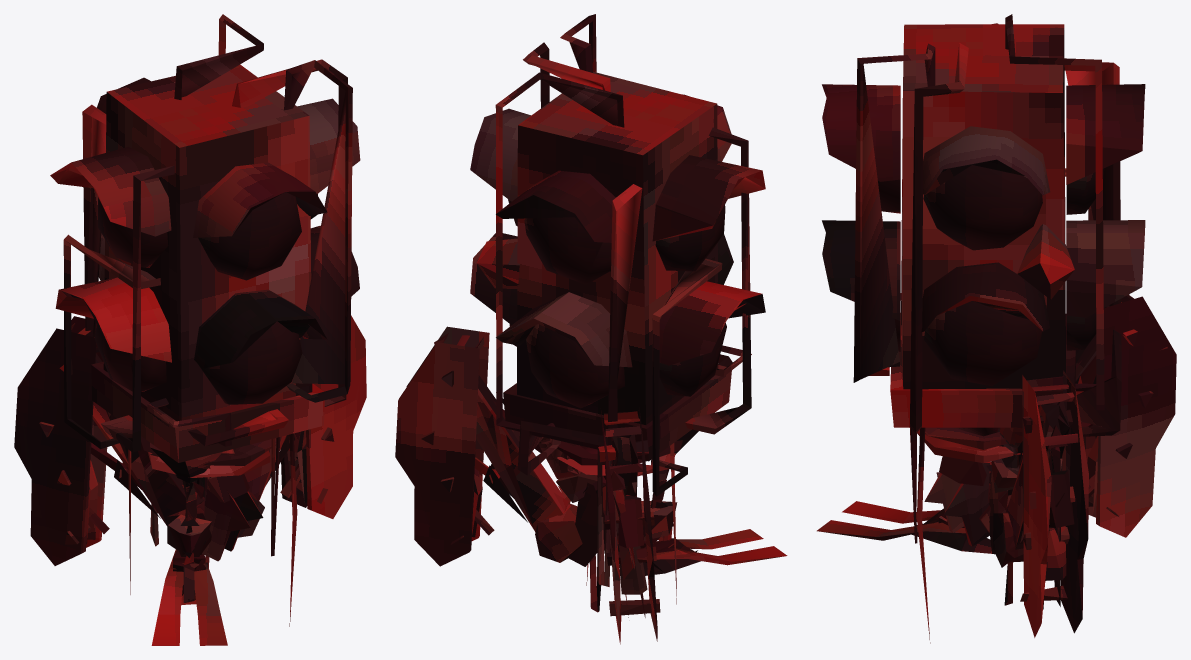
Rendered from item_squishy_redgreen_bloody.glb.
The picture shows the model from 3 angles, left to right: view 1: azimuth 30°, elevation 25°; view 2: azimuth 150°, elevation 25°; view 3: azimuth 270°, elevation 25°; orthographic projection. The views are drawn at different scales.
Parts seen in each view (by area): view 1: toy_redgreen; view 2: toy_redgreen; view 3: toy_redgreen.
Part boxes in pixels (bbox=[...]): toy_redgreen: bbox=[14, 14, 366, 645]; toy_redgreen: bbox=[395, 14, 787, 644]; toy_redgreen: bbox=[817, 14, 1176, 643].
Size of the model in its own units: 0.1318 by 0.2225 by 0.1201.
Materials: 1 (1 with a texture image).
